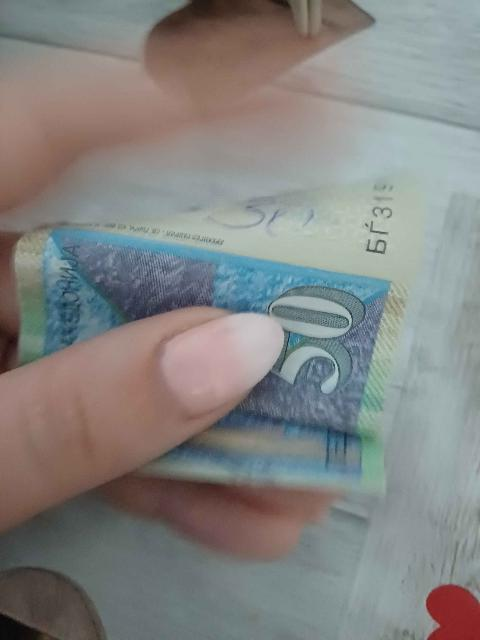50_note: (16, 181, 422, 491)
